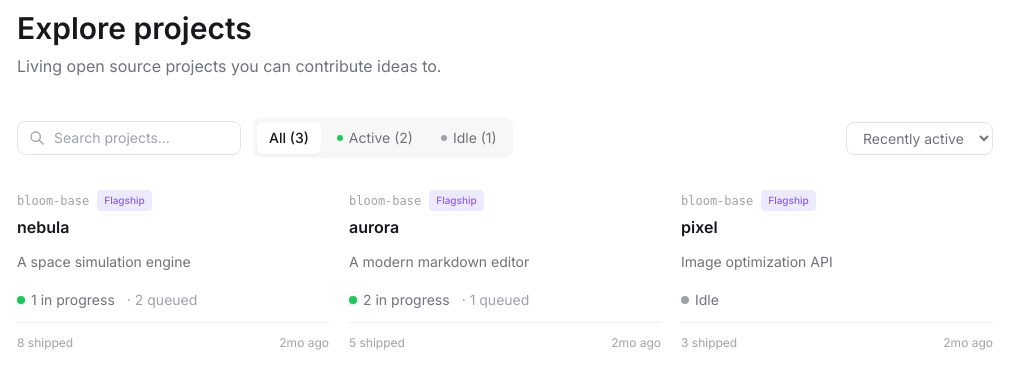
Test: ExplorePage › Filter buttons › filters to active projects when Active button is clicked
Expected: the text "aurora" is shown, [349, 217, 399, 237]
Expected: the text "pixel" is shown, [681, 217, 718, 237]
Click Active filter
Click the button "Active (2)".
click(375, 138)  # box [325, 122, 425, 154]
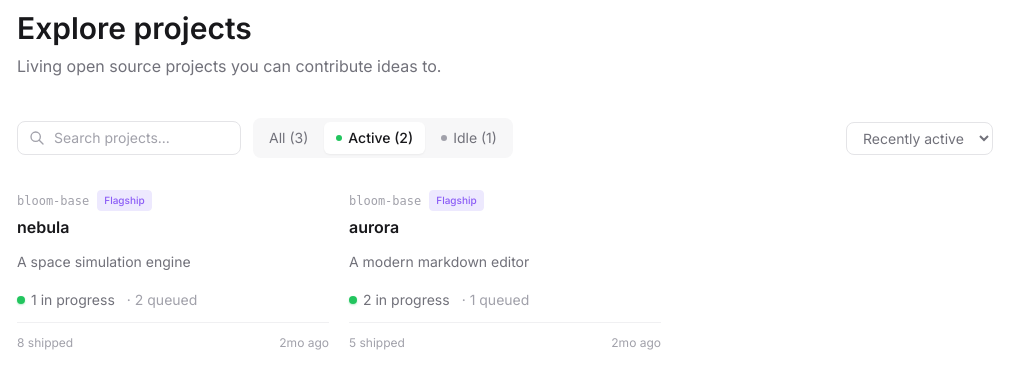
Expected: the text "aurora" is shown, [349, 217, 399, 237]
Now the link "pixel" is gone
